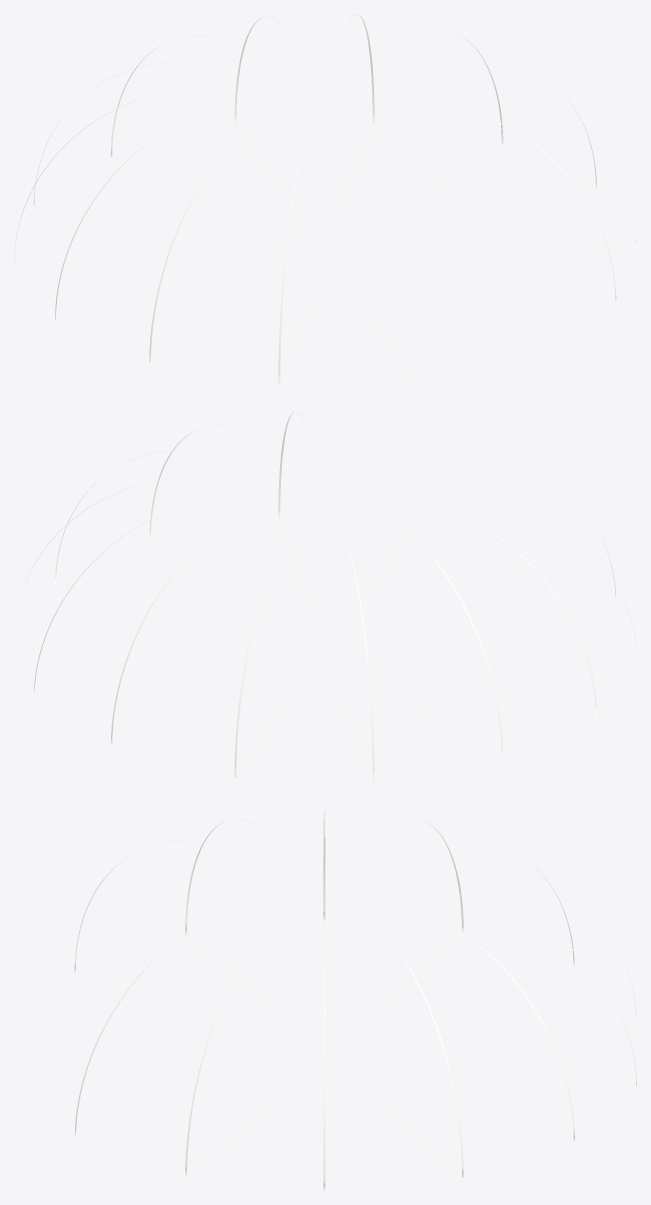
The model's file is AnimatedLines.glb.
3 views of the same model, one above another, from view 1: azimuth 30°, elevation 25°; view 2: azimuth 150°, elevation 25°; view 3: azimuth 270°, elevation 25° (orthographic). The views are drawn at different scales.
Visible parts, largest first — view 1: LightLines; view 2: LightLines; view 3: LightLines.
Part boxes in pixels (x1,y1,x2,y2): LightLines: (14,14,636,383); LightLines: (14,412,636,781); LightLines: (14,810,636,1190).
Size of the model in its own units: 49.97 by 14.97 by 48.67.
Materials: 1 (1 with a texture image).
